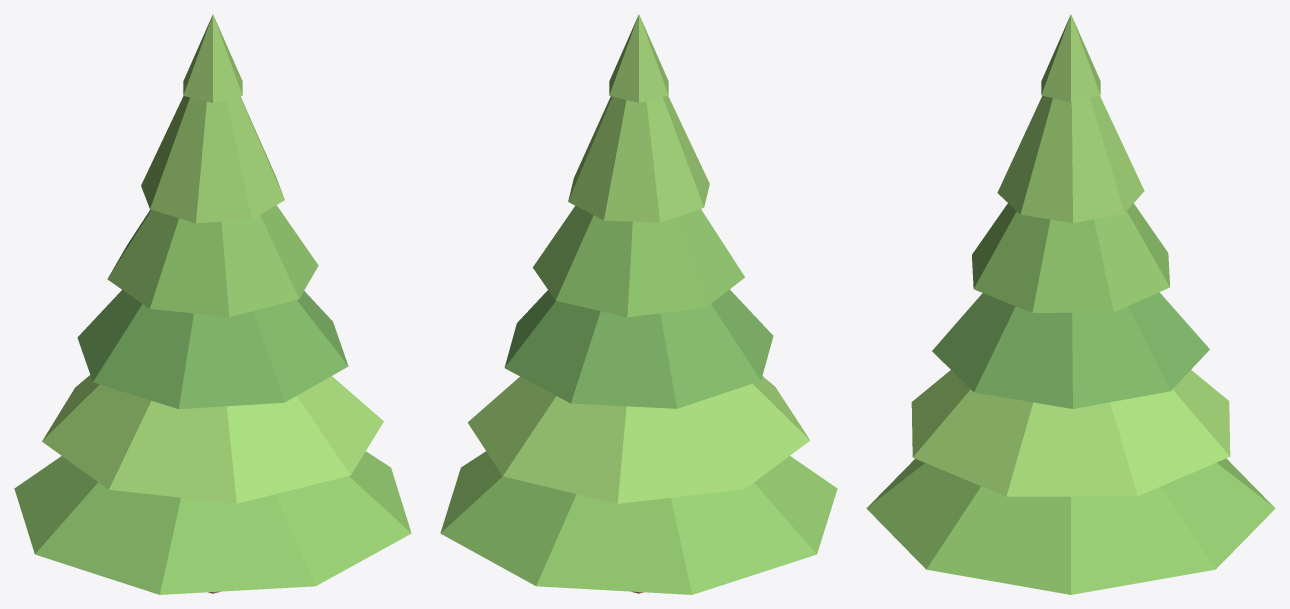
The model's file is pine-tiered-0.glb.
3 views of the same model, side by side, from view 1: azimuth 30°, elevation 25°; view 2: azimuth 150°, elevation 25°; view 3: azimuth 270°, elevation 25° (orthographic).
Visible parts, largest first — view 1: pine-tiered-0-leaf1, pine-tiered-0-leaf2, pine-tiered-0-leaf3; view 2: pine-tiered-0-leaf1, pine-tiered-0-leaf2, pine-tiered-0-leaf3; view 3: pine-tiered-0-leaf1, pine-tiered-0-leaf2, pine-tiered-0-leaf3.
Boxes of the visible parts, <box> form: pine-tiered-0-leaf1: <box>14,205,411,594</box>; pine-tiered-0-leaf2: <box>42,14,383,503</box>; pine-tiered-0-leaf3: <box>77,290,348,409</box>; pine-tiered-0-leaf1: <box>440,206,837,594</box>; pine-tiered-0-leaf2: <box>467,14,810,503</box>; pine-tiered-0-leaf3: <box>504,289,773,408</box>; pine-tiered-0-leaf1: <box>866,203,1275,594</box>; pine-tiered-0-leaf2: <box>911,14,1230,496</box>; pine-tiered-0-leaf3: <box>932,292,1209,408</box>.
Bounding box in the file's own units: 3 × 4.6 × 3.
